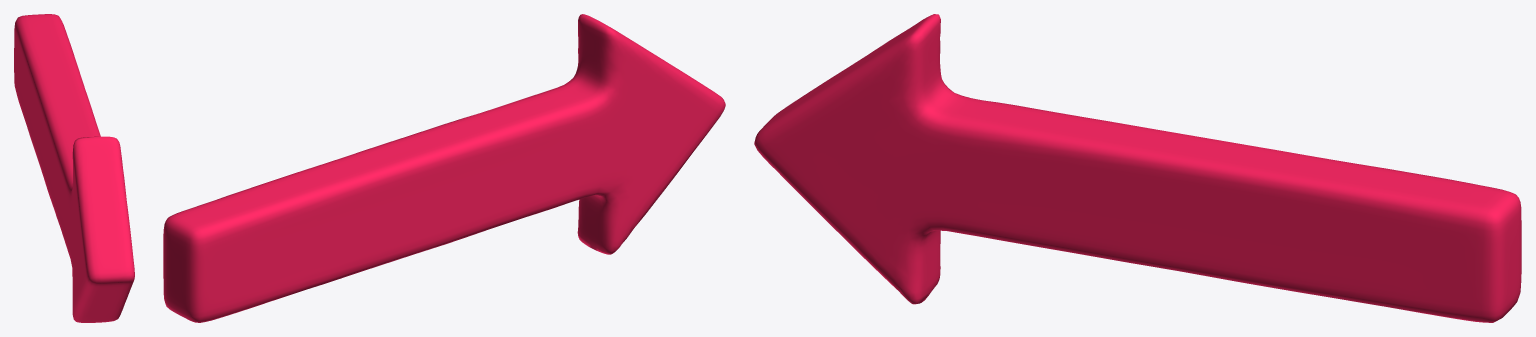
File: animated arrow 13.fbx
3 renders of one model, left to right at view 1: azimuth 30°, elevation 25°; view 2: azimuth 150°, elevation 25°; view 3: azimuth 270°, elevation 25°, orthographic. The views are drawn at different scales.
Visible parts, largest first — view 1: Arrow; view 2: Arrow; view 3: Arrow.
Part boxes in pixels (<box>): Arrow: <box>14,14,134,322</box>; Arrow: <box>163,14,725,322</box>; Arrow: <box>754,14,1521,322</box>.
Size of the model in its own units: 214 by 179 by 455.
